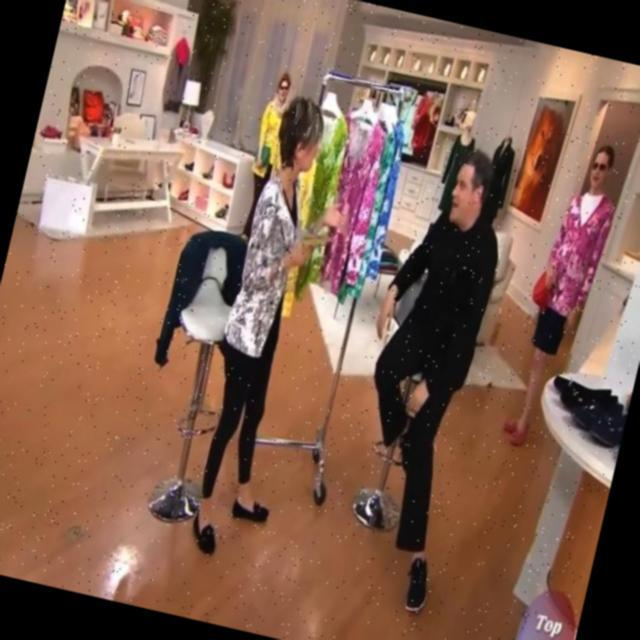person: (326, 137, 526, 613), (180, 91, 362, 560), (504, 135, 630, 459)
